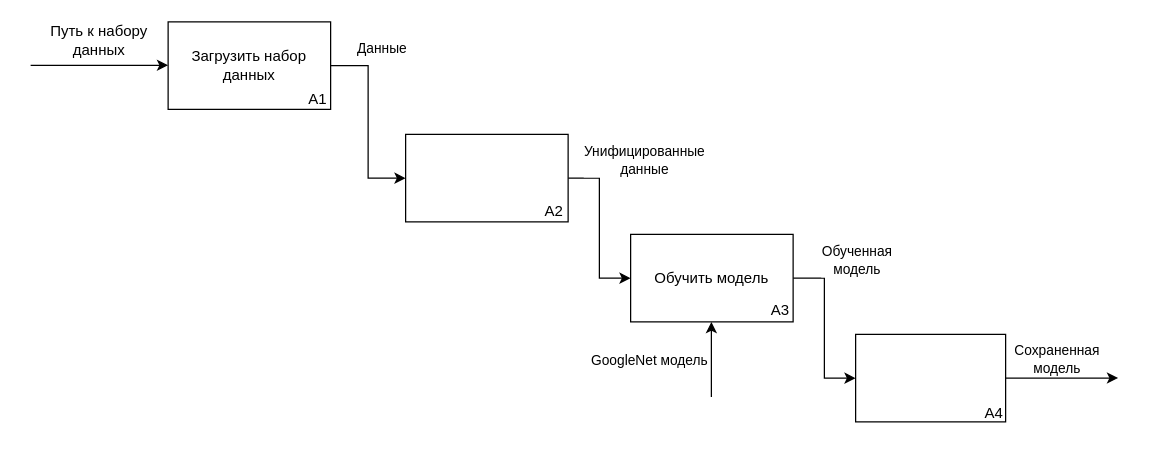
This 1150x454 diagram has some shape labels left out. The shapes that lost their labels are listed below. From the top down, each one's box as (x1, y1, x2, y2) in pixels, then its label:
(404, 133, 568, 222): Унифицировать загруженные данные
(854, 333, 1006, 422): Сохранить модель на диск
